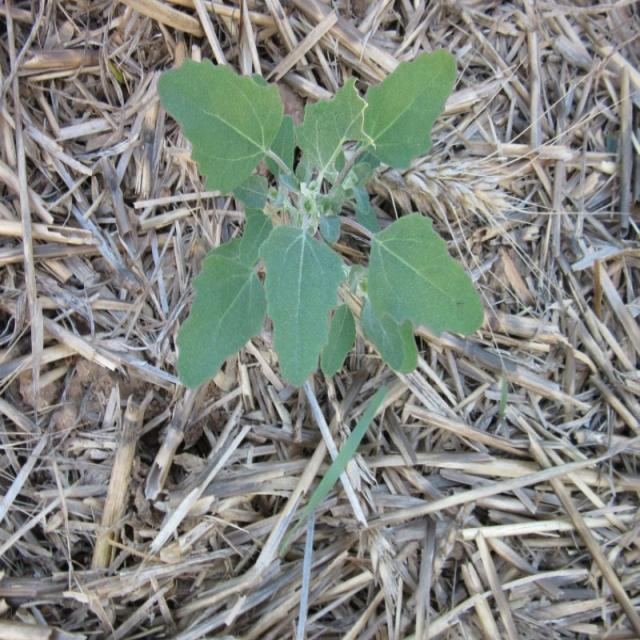ca: (160, 59, 484, 392)
